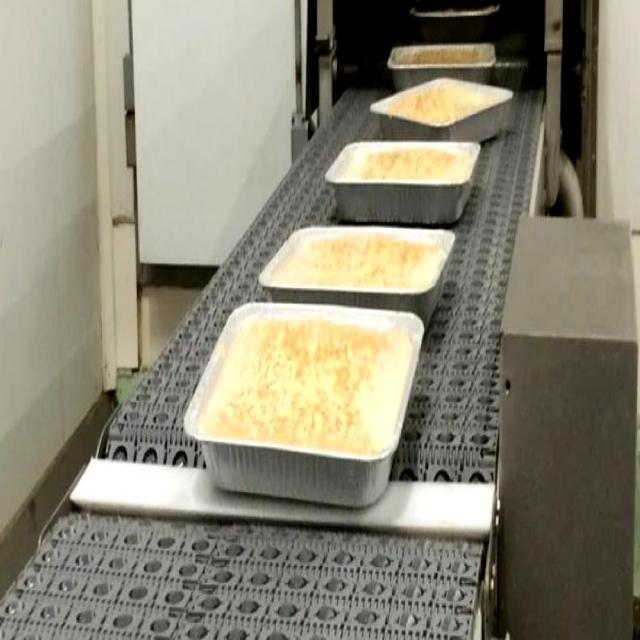food: (182, 298, 425, 511), (257, 222, 456, 330), (324, 138, 482, 225)
